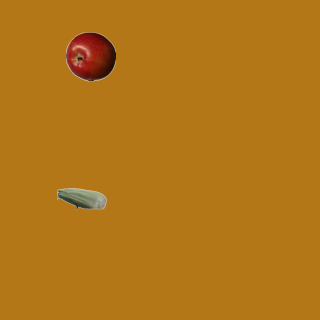Apple Braeburn: (65, 31, 115, 81)
Corn Husk: (56, 173, 106, 223)
